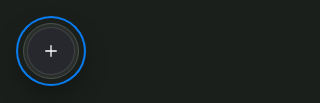
Test: BotaoAgoraPrincipal › mantém um único FAB e representa os estados fechado e aberto
Click the button named "Adicionar".
click(51, 51)  # box [23, 23, 79, 79]
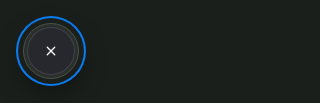
Expected: the button named "Fechar ações da agenda" is expanded, [23, 23, 79, 79]
Expected: the icon with class "agenda-fab-icone-aberto" is shown, [38, 38, 64, 64]
